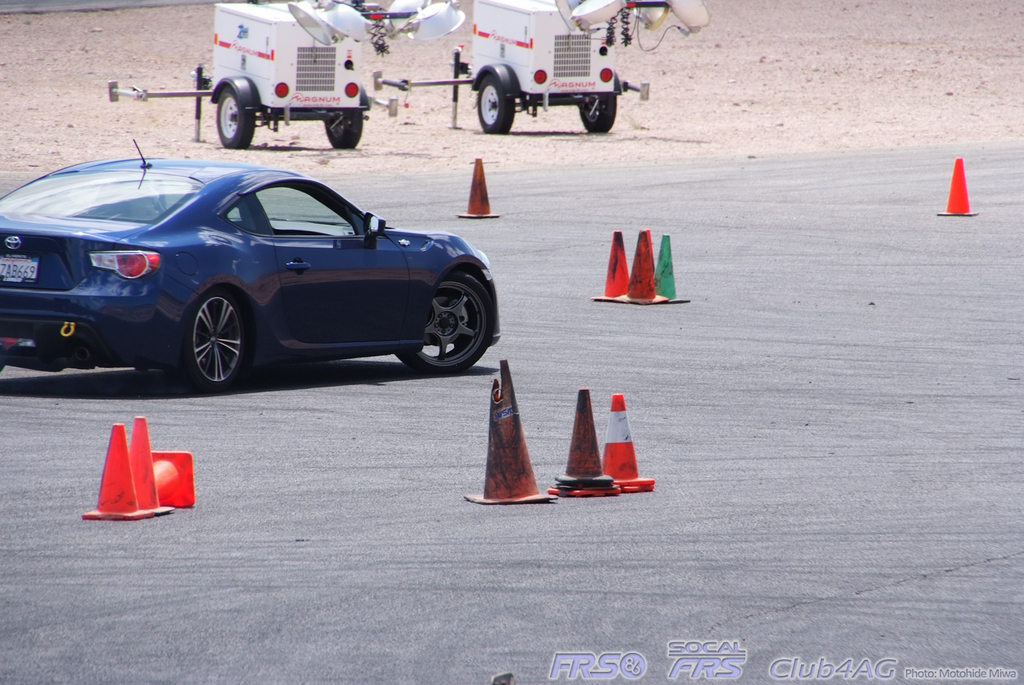Car: (0, 147, 510, 392)
